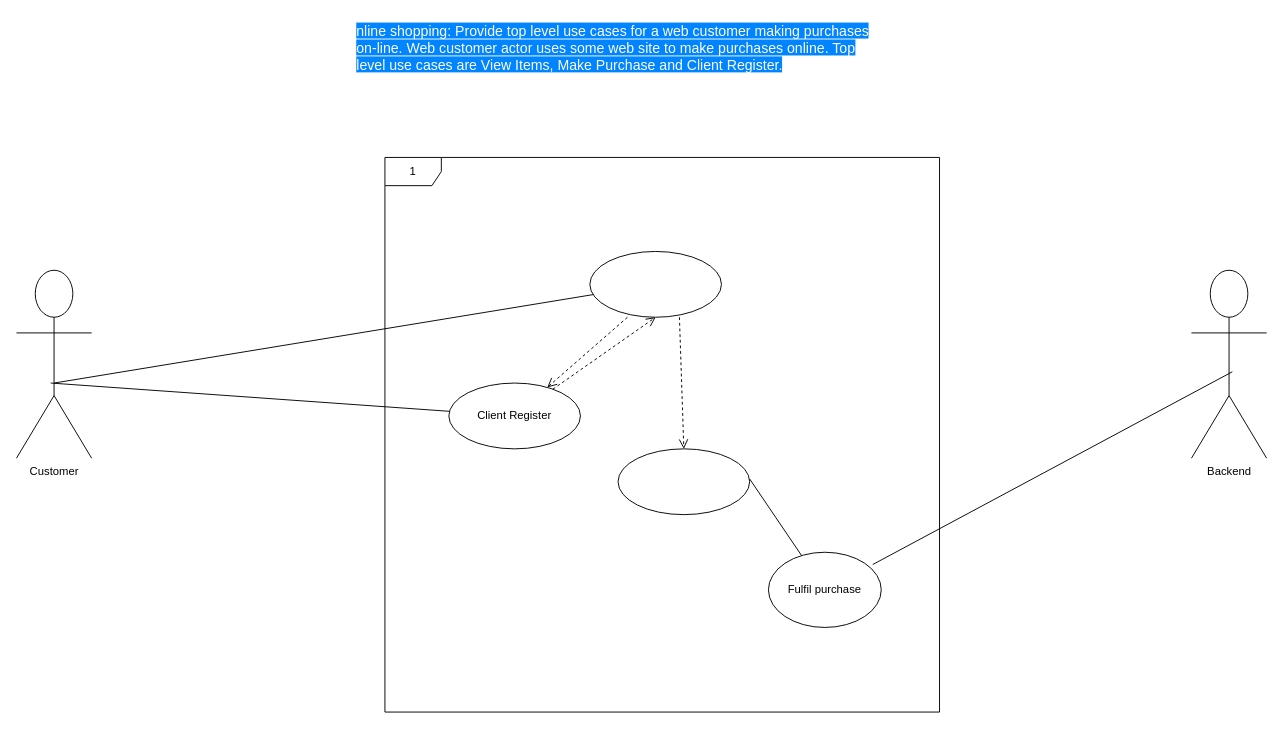
This 1283x729 diagram has some shape labels left out. Here are the shapes that lost their labels. From the top down, the box of each, then its label:
(589, 251, 721, 317): View Items
(617, 448, 750, 515): Purchase
